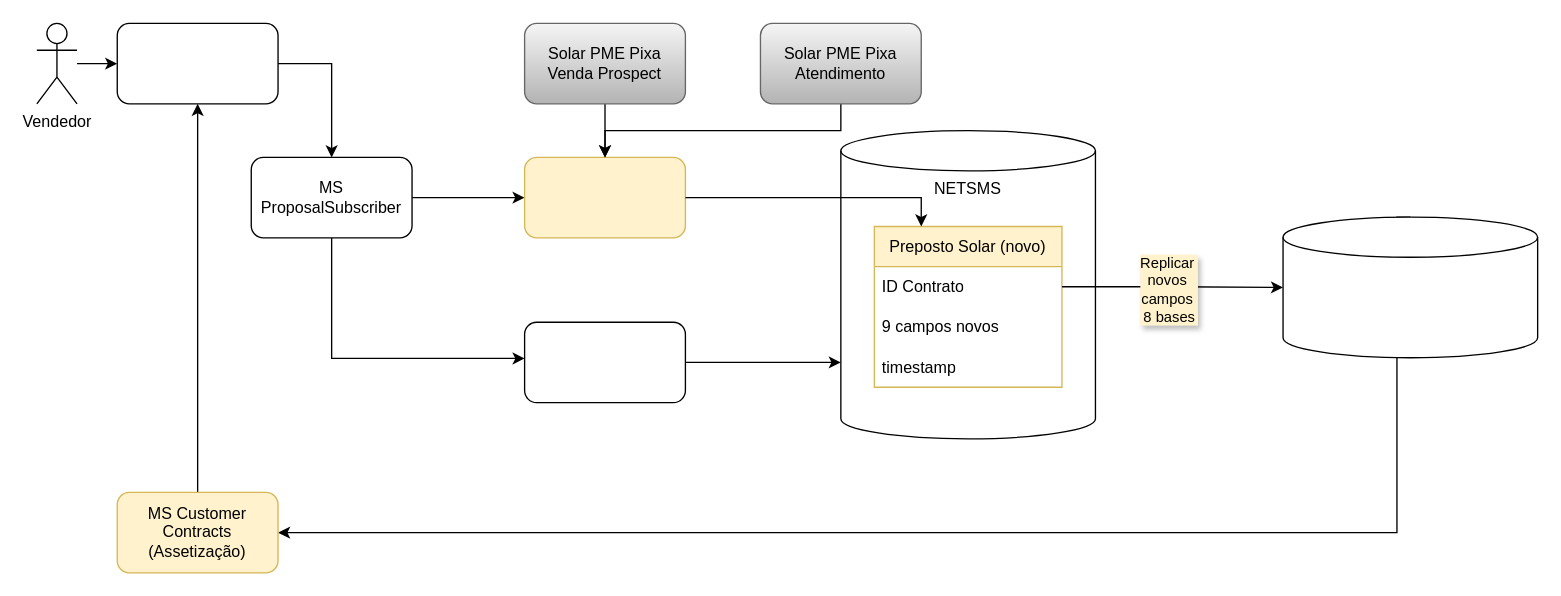
Image size: 1561x596. Some labels were removed from this diagram. The shapes that lost their labels are listed below. From the top down, each one's centre as x and y in pixels, then its label:
At (197,63): "Solar PME Pixa Venda Base".
At (604,197): "Novo MS Cria/Atualiza Preposto".
At (1410,287): "Datalake".
At (604,362): "Atualiza Contrato".
